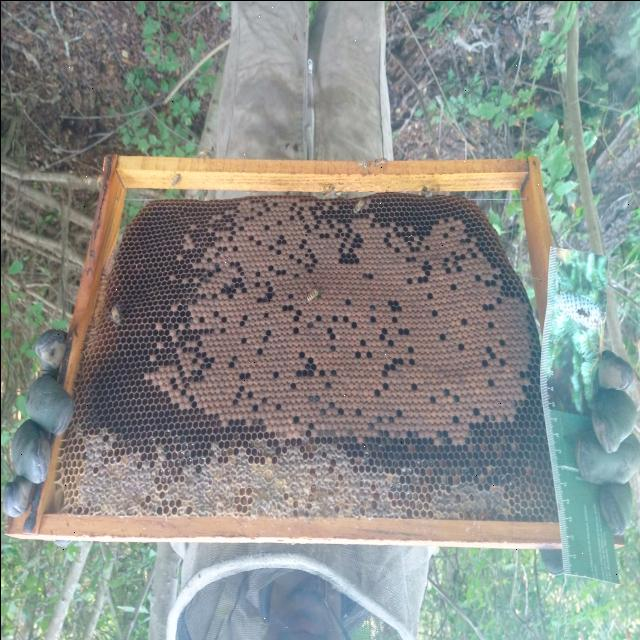cria: (141, 195, 538, 445)
marco: (44, 181, 579, 521)
